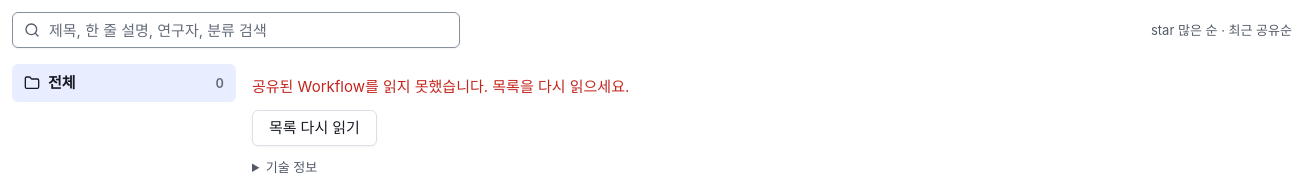
Test: Shared hub browse › shows an empty registry and a recoverable error instead of treating an error as empty
Expected: the text "공유된 Workflow를 읽지 못했습니다. 목록을 다시 읽으세요." is shown, [252,76,629,98]
Expected: the text "공유된 Workflow가 없습니다. 추천 Workflow를 살펴보세요." is not shown
Click the button "목록 다시 읽기".
click(314, 128)  # box [252,110,377,146]
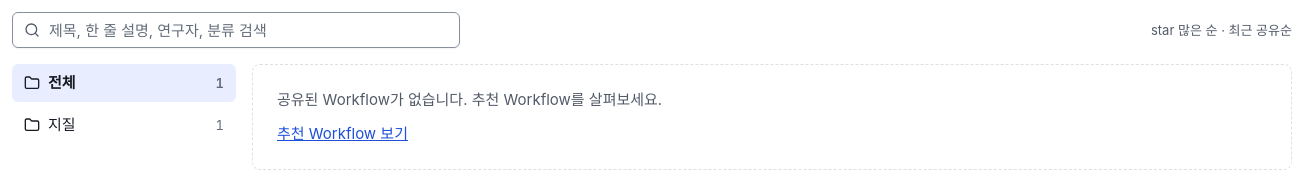
Result: the text "공유된 Workflow가 없습니다. 추천 Workflow를 살펴보세요." is shown at [277,89,662,111]
Result: the button "추천 Workflow 보기" is shown at [277,123,408,145]
